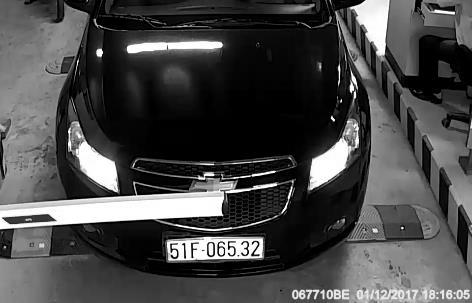License-plate: (160, 231, 272, 265)
